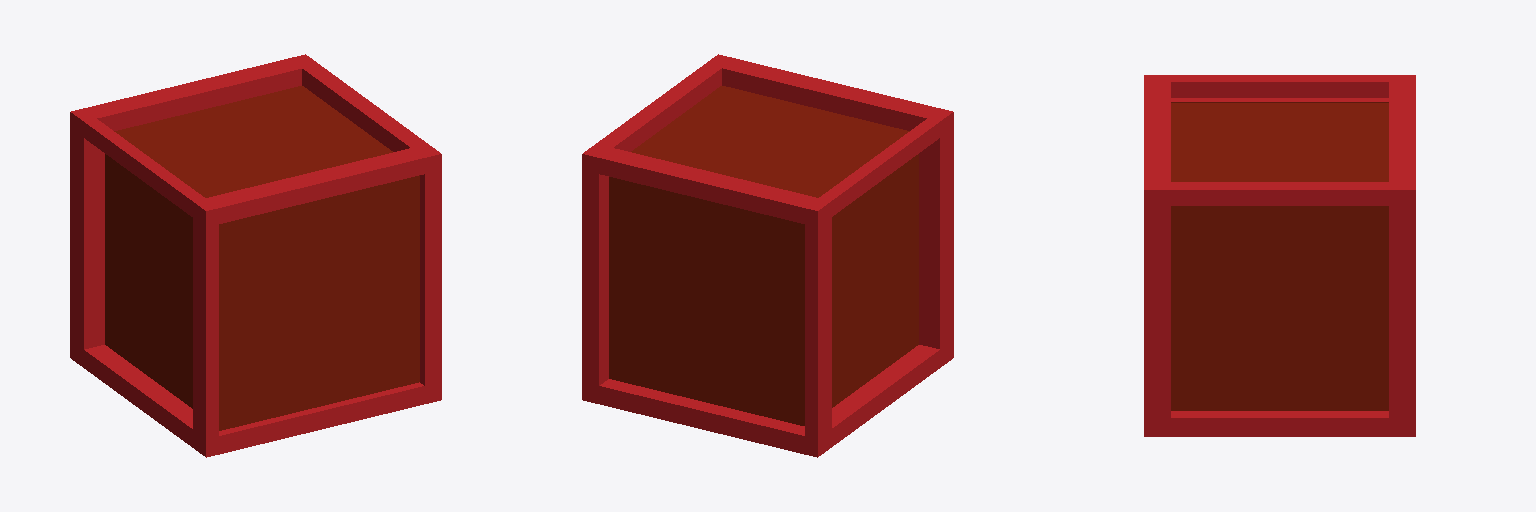
File: caja_01.obj
3 views of the same model, side by side, from view 1: azimuth 30°, elevation 25°; view 2: azimuth 150°, elevation 25°; view 3: azimuth 270°, elevation 25° (orthographic).
Parts seen in each view (by area): view 1: caja_Cube.007; view 2: caja_Cube.007; view 3: caja_Cube.007.
Boxes of the visible parts, <box> form: caja_Cube.007: <box>70,54,441,457</box>; caja_Cube.007: <box>582,54,953,457</box>; caja_Cube.007: <box>1144,75,1415,436</box>.
Bounding box in the file's own units: 2 × 2 × 2.